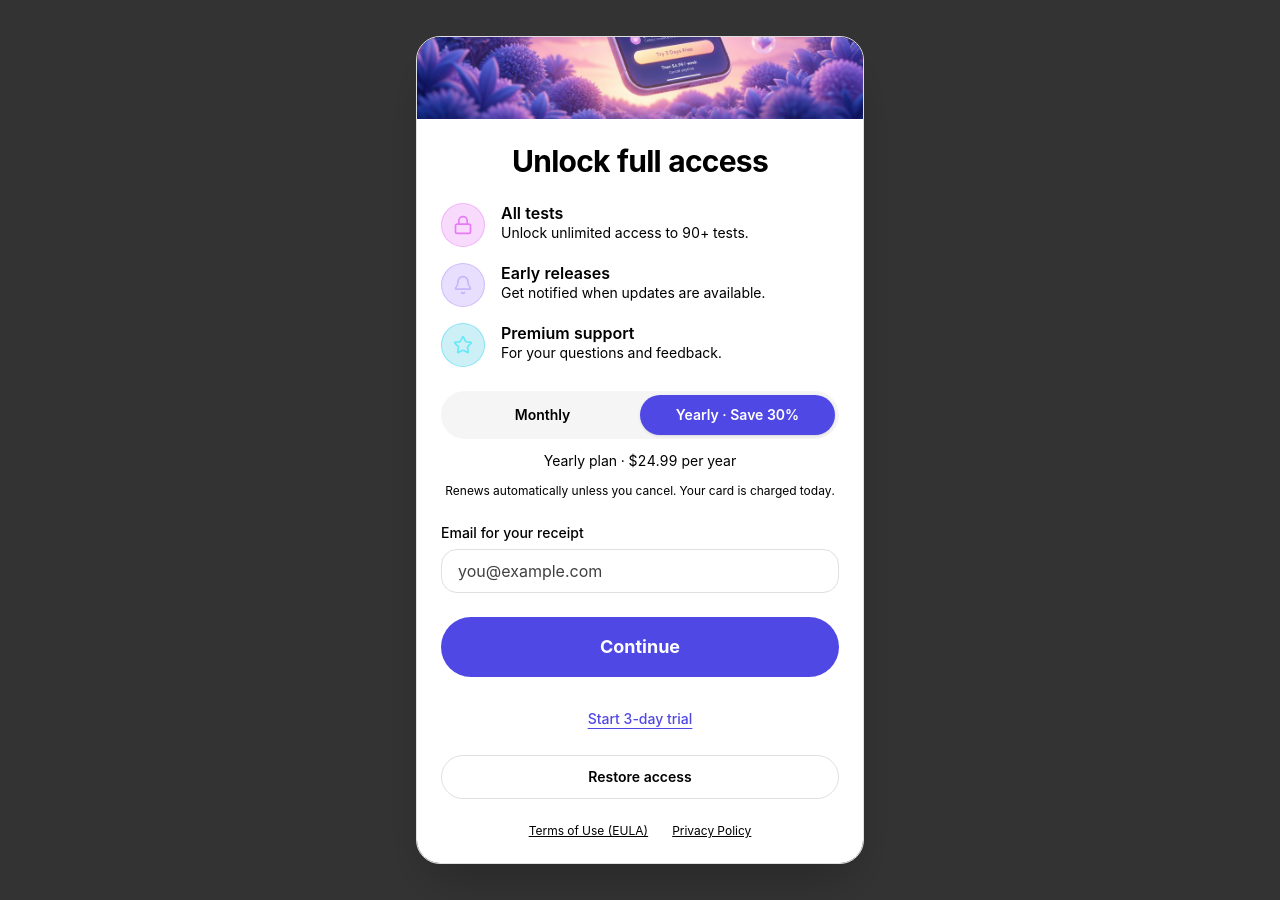
it: PaywallModal website restore (one-time code) › email -> code -> verified restore
Later steps or results of the test are not shown.
(page scrolled)
Step 1. Click the button "Restore access" → (640,777), box x1=441 y1=755 x2=839 y2=799
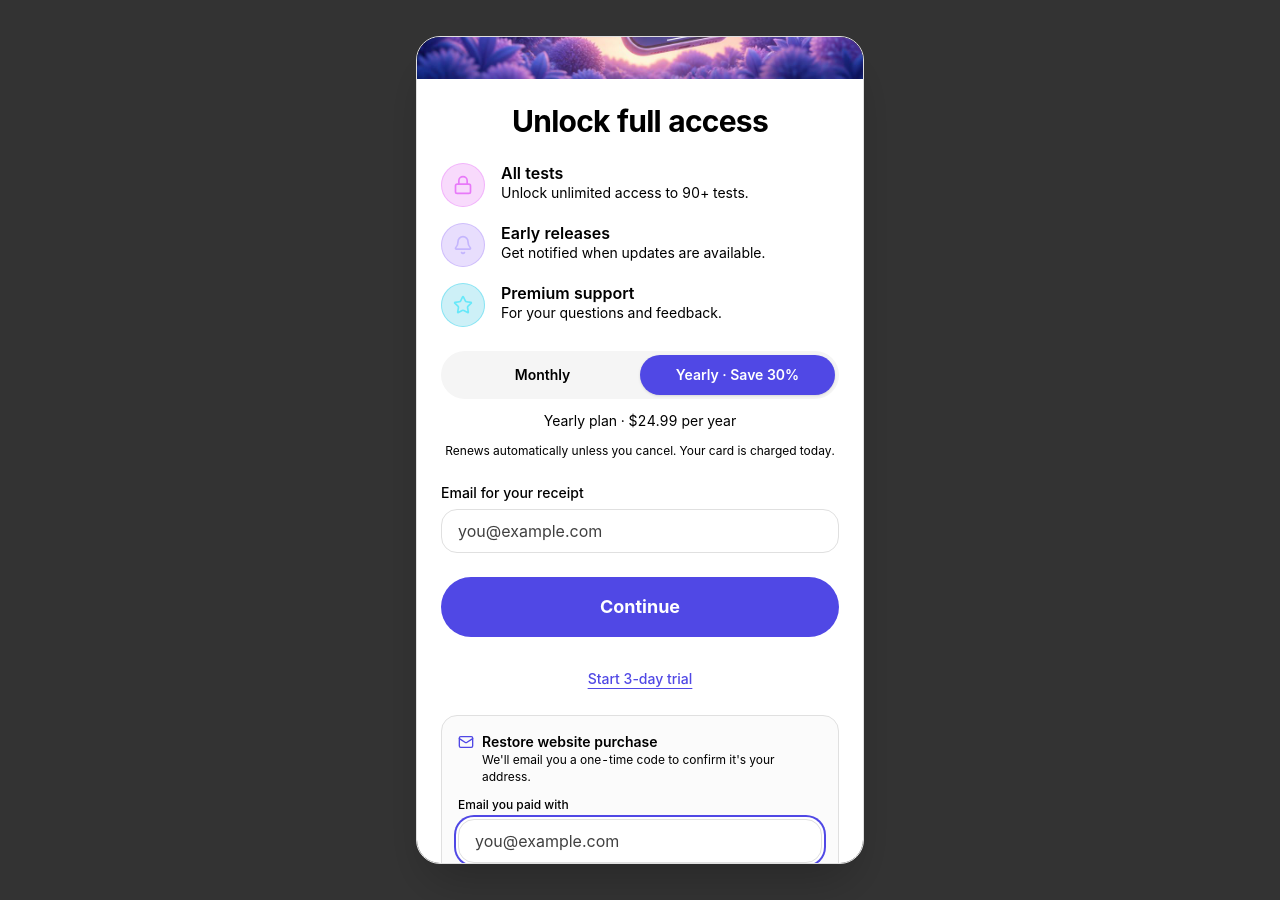
Step 2. Type "Payer@Example.com" into the field labelled "Email you paid with" → (640,841), box x1=458 y1=819 x2=822 y2=863
(page scrolled)
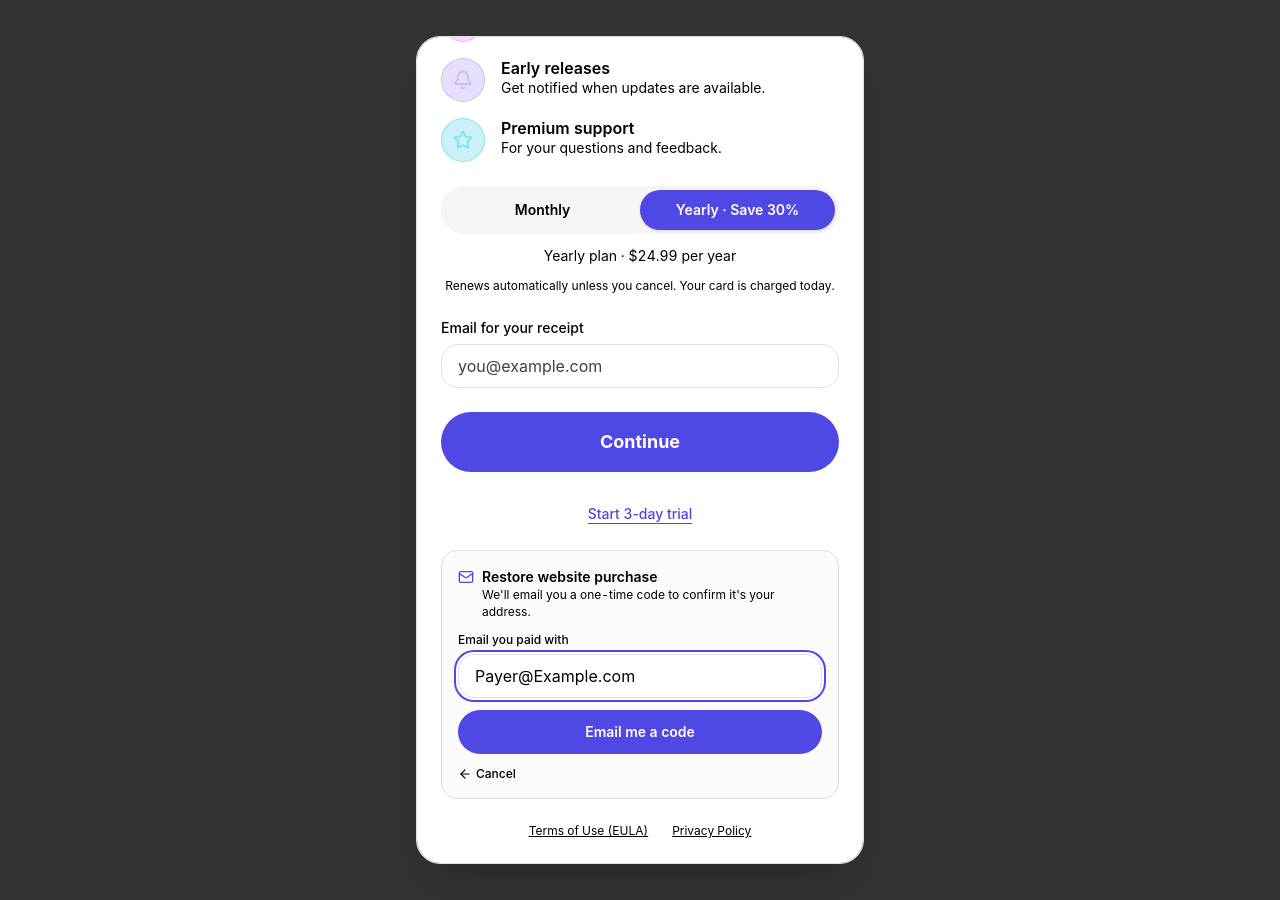
Step 3. Click the button "Email me a code" → (640,732), box x1=458 y1=710 x2=822 y2=754
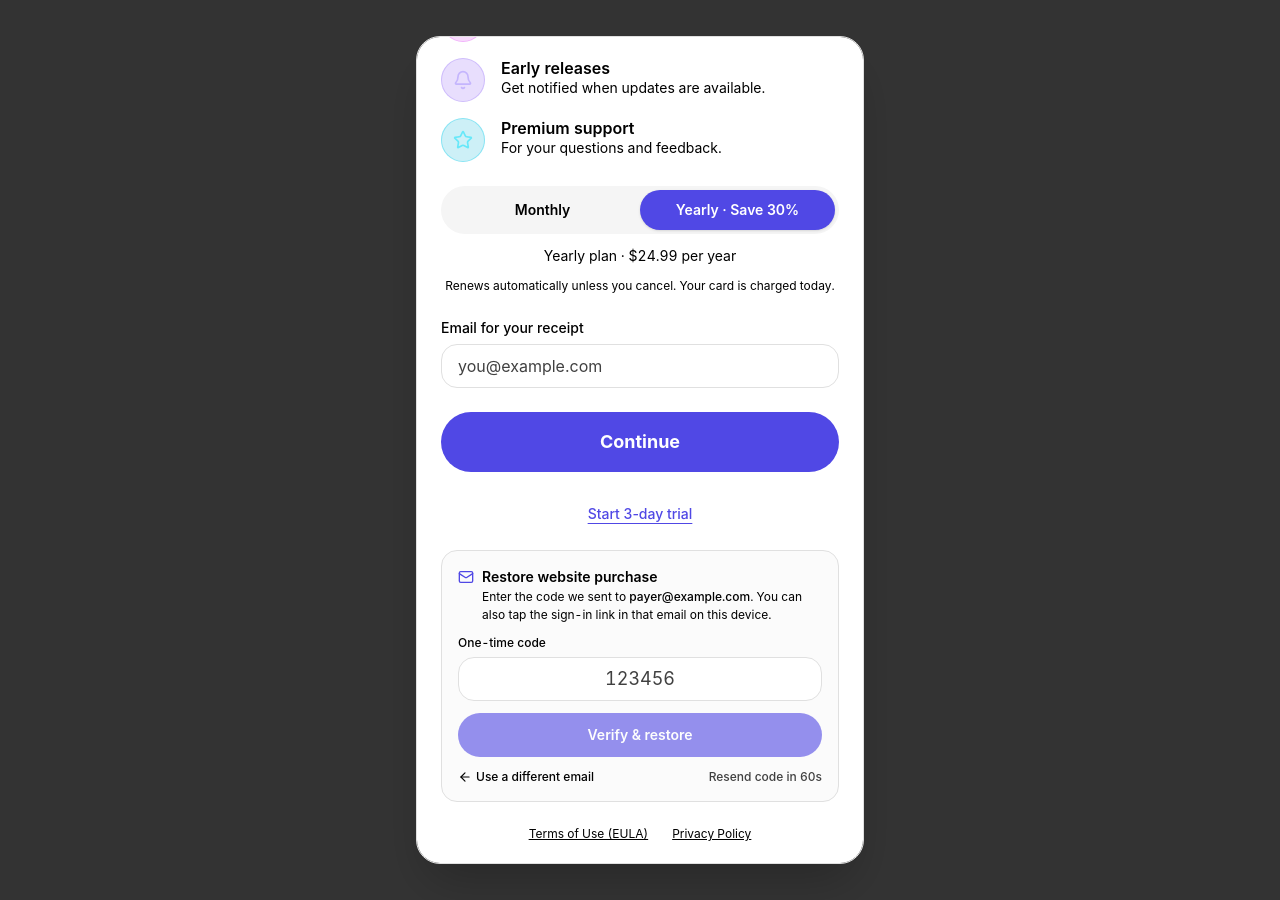
Expected: the button "Resend code in 60s" is shown, x1=709 y1=769 x2=822 y2=785
Step 4. Type "12 34-56" into the field labelled "One-time code" → (640,679), box x1=458 y1=657 x2=822 y2=701
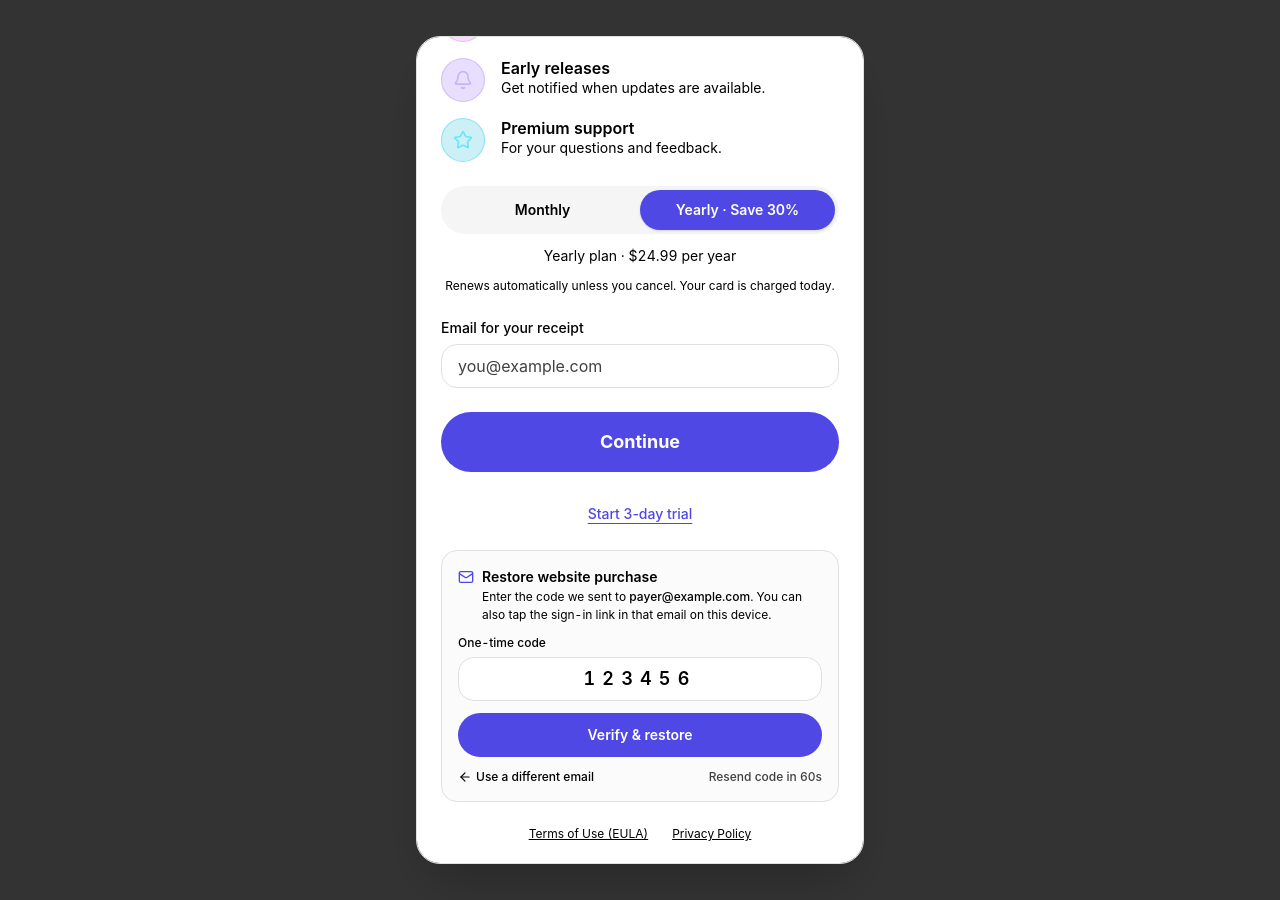
Expected: the field labelled "One-time code" holds "123456", x1=458 y1=657 x2=822 y2=701
